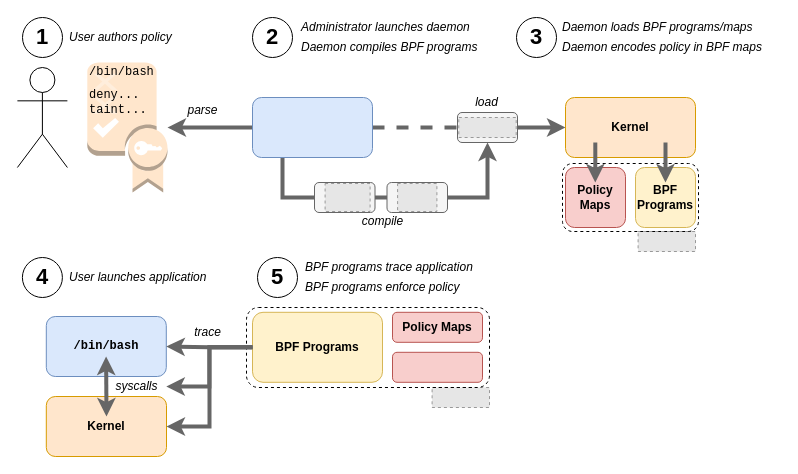
Image size: 798x474. Some labels were removed from this diagram. Grey dashed boxes stand in for pictures. The shapes that lost their labels are listed below. From the top down, each one's centre as x and y in pixels, then its label:
At pixel 312 127: "bpfboxd".
At pixel 437 366: "State Maps".
